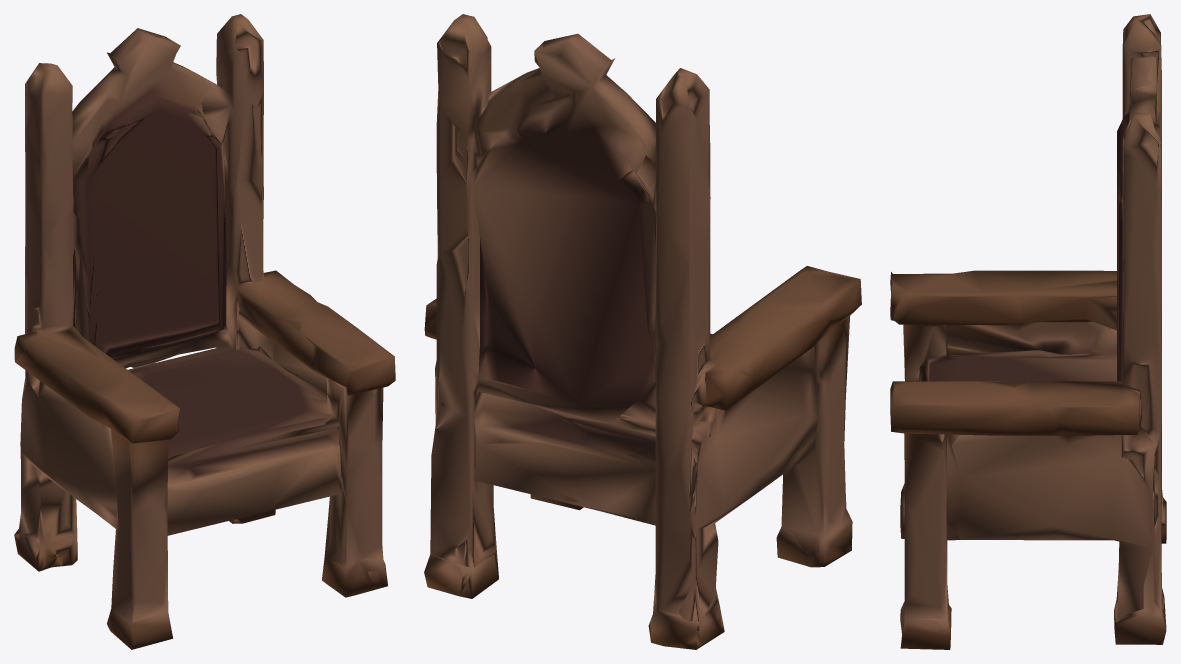
File: gen3d-throne-lod0.glb
3 views of the same model, side by side, from view 1: azimuth 30°, elevation 25°; view 2: azimuth 150°, elevation 25°; view 3: azimuth 270°, elevation 25° (orthographic). The views are drawn at different scales.
Parts seen in each view (by area): view 1: part_0; view 2: part_0; view 3: part_0.
Boxes of the visible parts, bbox=[...] form: part_0: bbox=[14, 14, 395, 649]; part_0: bbox=[424, 14, 861, 649]; part_0: bbox=[890, 14, 1166, 649].
Bounding box in the file's own units: 0.5492 × 0.9988 × 0.4742.
